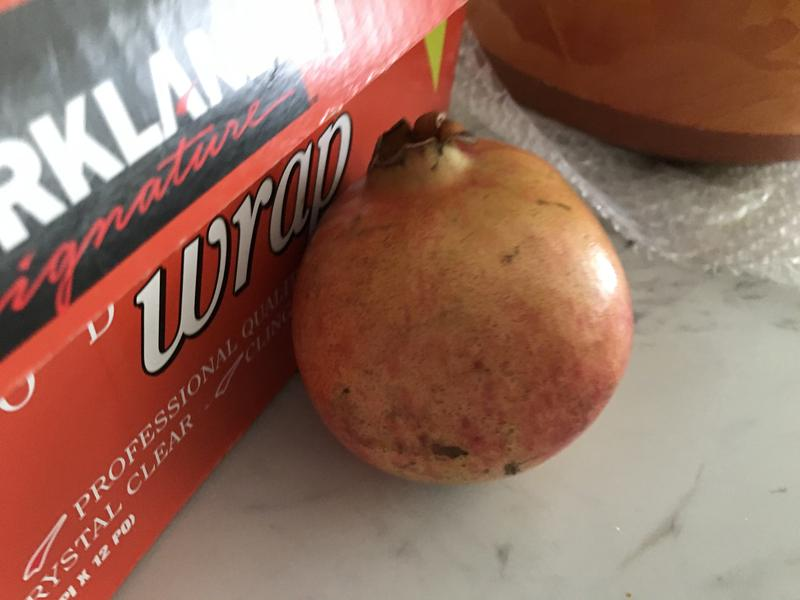pomegranate: (281, 100, 647, 496)
